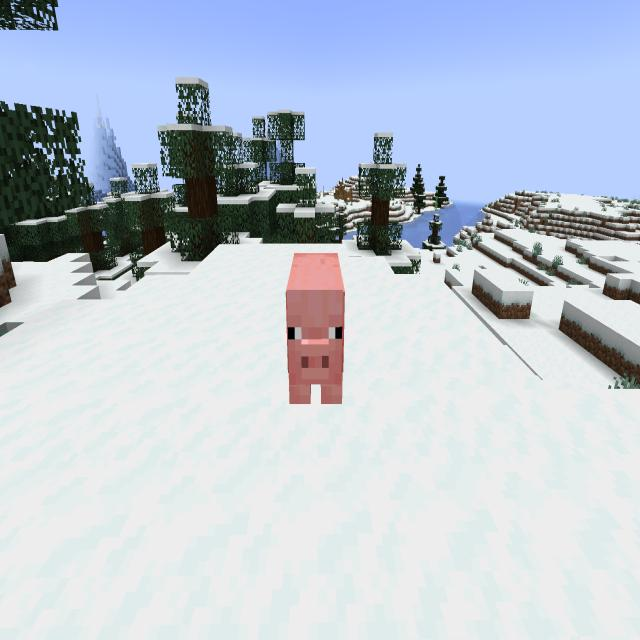pig: (273, 239, 353, 428)
